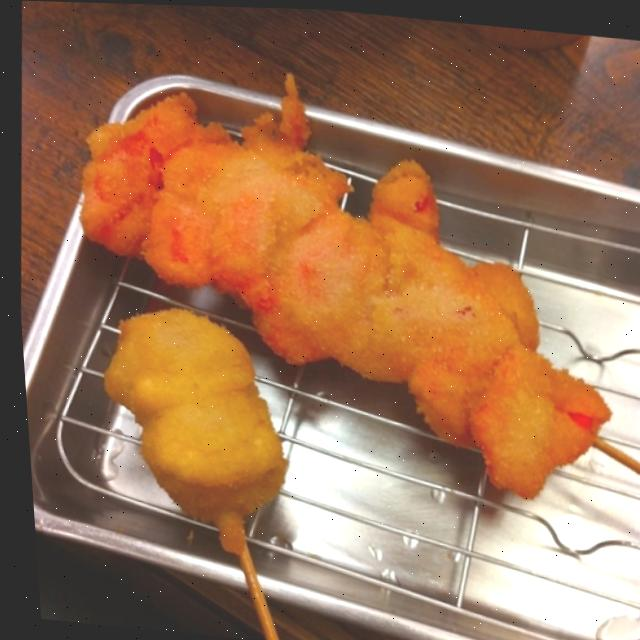面条主食: (38, 119, 640, 608)
